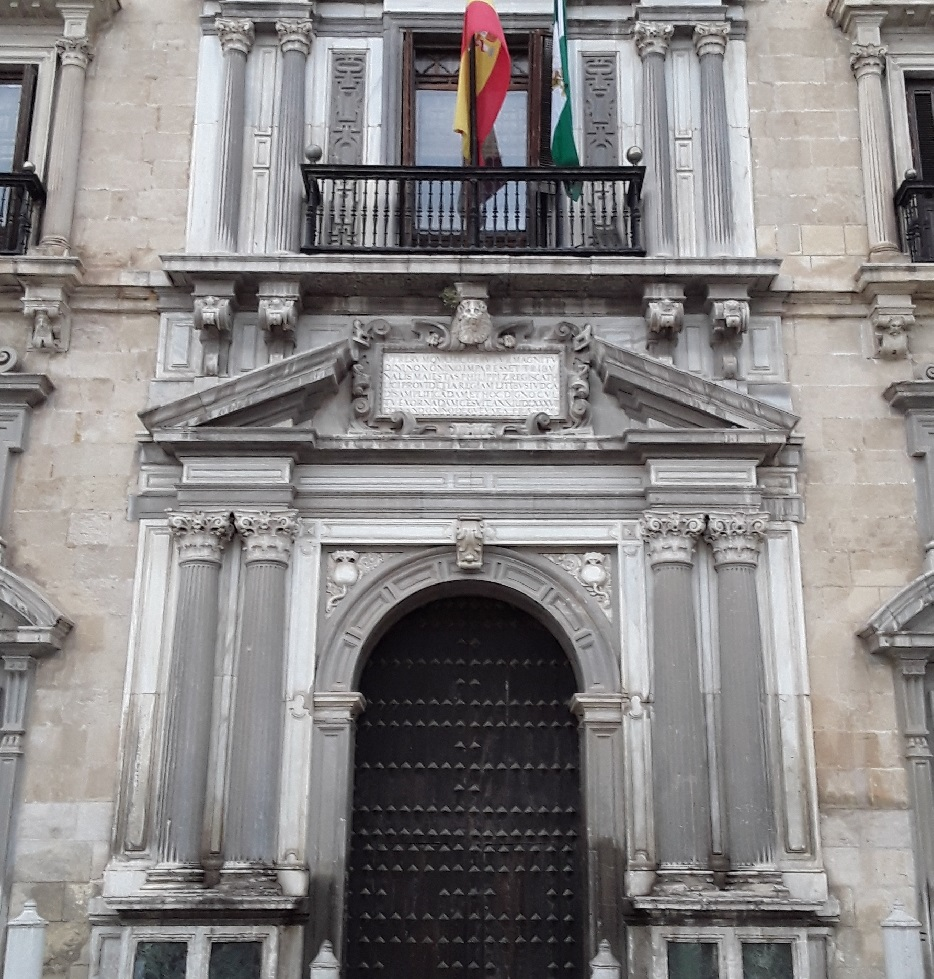arco-medio-punto: (340, 563, 600, 750)
fronton-partido: (132, 327, 802, 460)
vano-adintelado: (377, 6, 559, 257)
